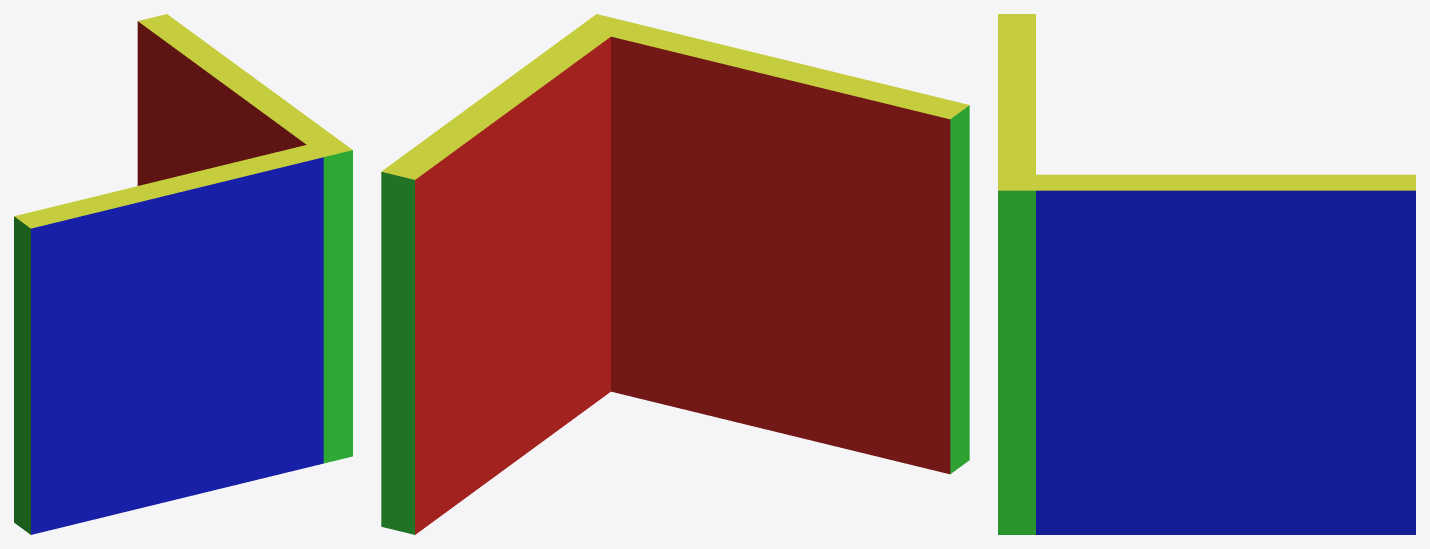
File: Wall_Corner_Base.fbx
The picture shows the model from 3 angles, left to right: view 1: azimuth 30°, elevation 25°; view 2: azimuth 150°, elevation 25°; view 3: azimuth 270°, elevation 25°; orthographic projection. The views are drawn at different scales.
Visible parts, largest first — view 1: Back, Front.001, Sides.001, Top, Sides, Top.001; view 2: Front, Front.001, Sides.001, Top, Sides, Top.001; view 3: Back.001, Sides, Top, Top.001.
Boxes of the visible parts, left/top/right/bottom form: Back: left=31, top=157, right=323, bottom=534; Front.001: left=137, top=21, right=306, bottom=185; Sides.001: left=323, top=150, right=352, bottom=463; Top: left=14, top=138, right=352, bottom=228; Sides: left=14, top=216, right=30, bottom=534; Top.001: left=138, top=14, right=335, bottom=144; Front: left=611, top=36, right=950, bottom=474; Front.001: left=415, top=37, right=610, bottom=534; Sides.001: left=381, top=172, right=414, bottom=534; Top: left=577, top=14, right=969, bottom=119; Sides: left=950, top=105, right=969, bottom=473; Top.001: left=381, top=28, right=610, bottom=179; Back.001: left=1036, top=190, right=1415, bottom=534; Sides: left=998, top=190, right=1035, bottom=534; Top: left=998, top=14, right=1035, bottom=190; Top.001: left=1036, top=174, right=1415, bottom=190.
Size of the model in its own units: 220 by 200 by 220.
